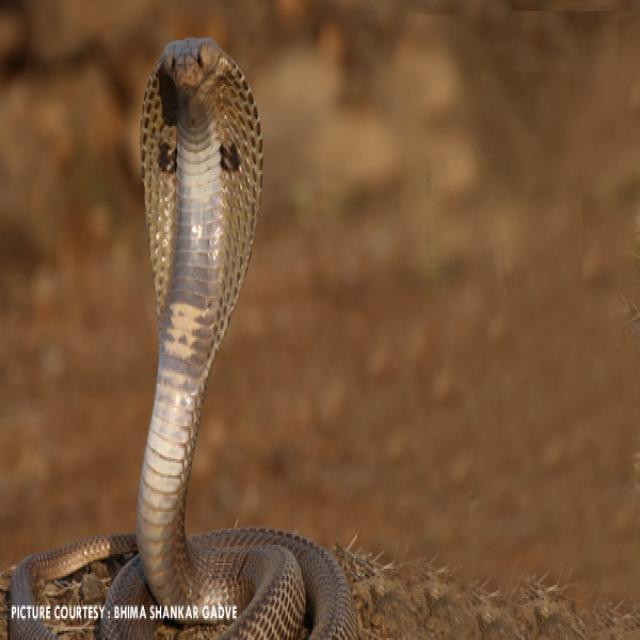Snake: (8, 33, 360, 636)
